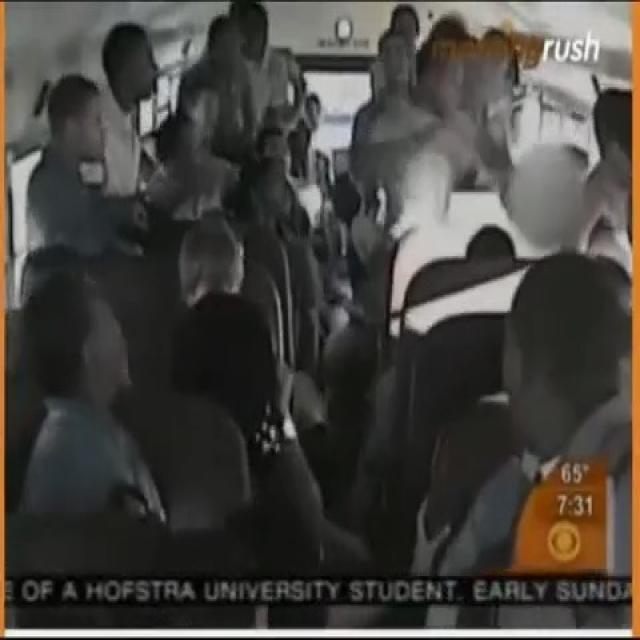fight: (353, 50, 515, 176)
